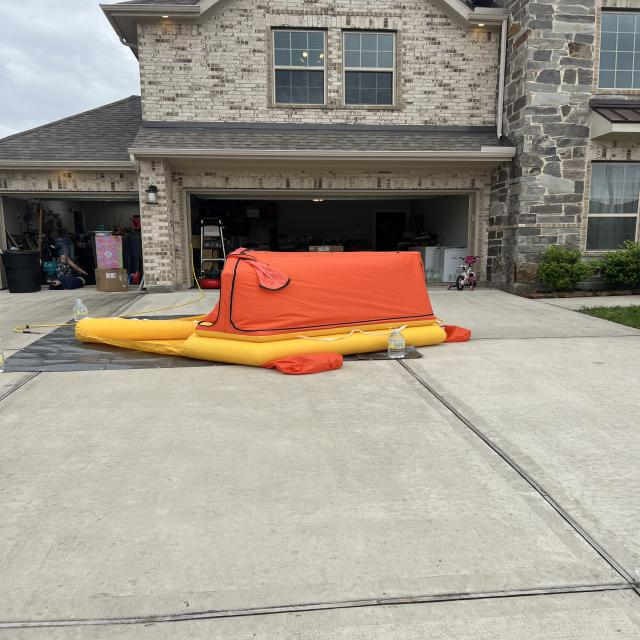Multi-person_life_raft: (76, 245, 472, 375)
